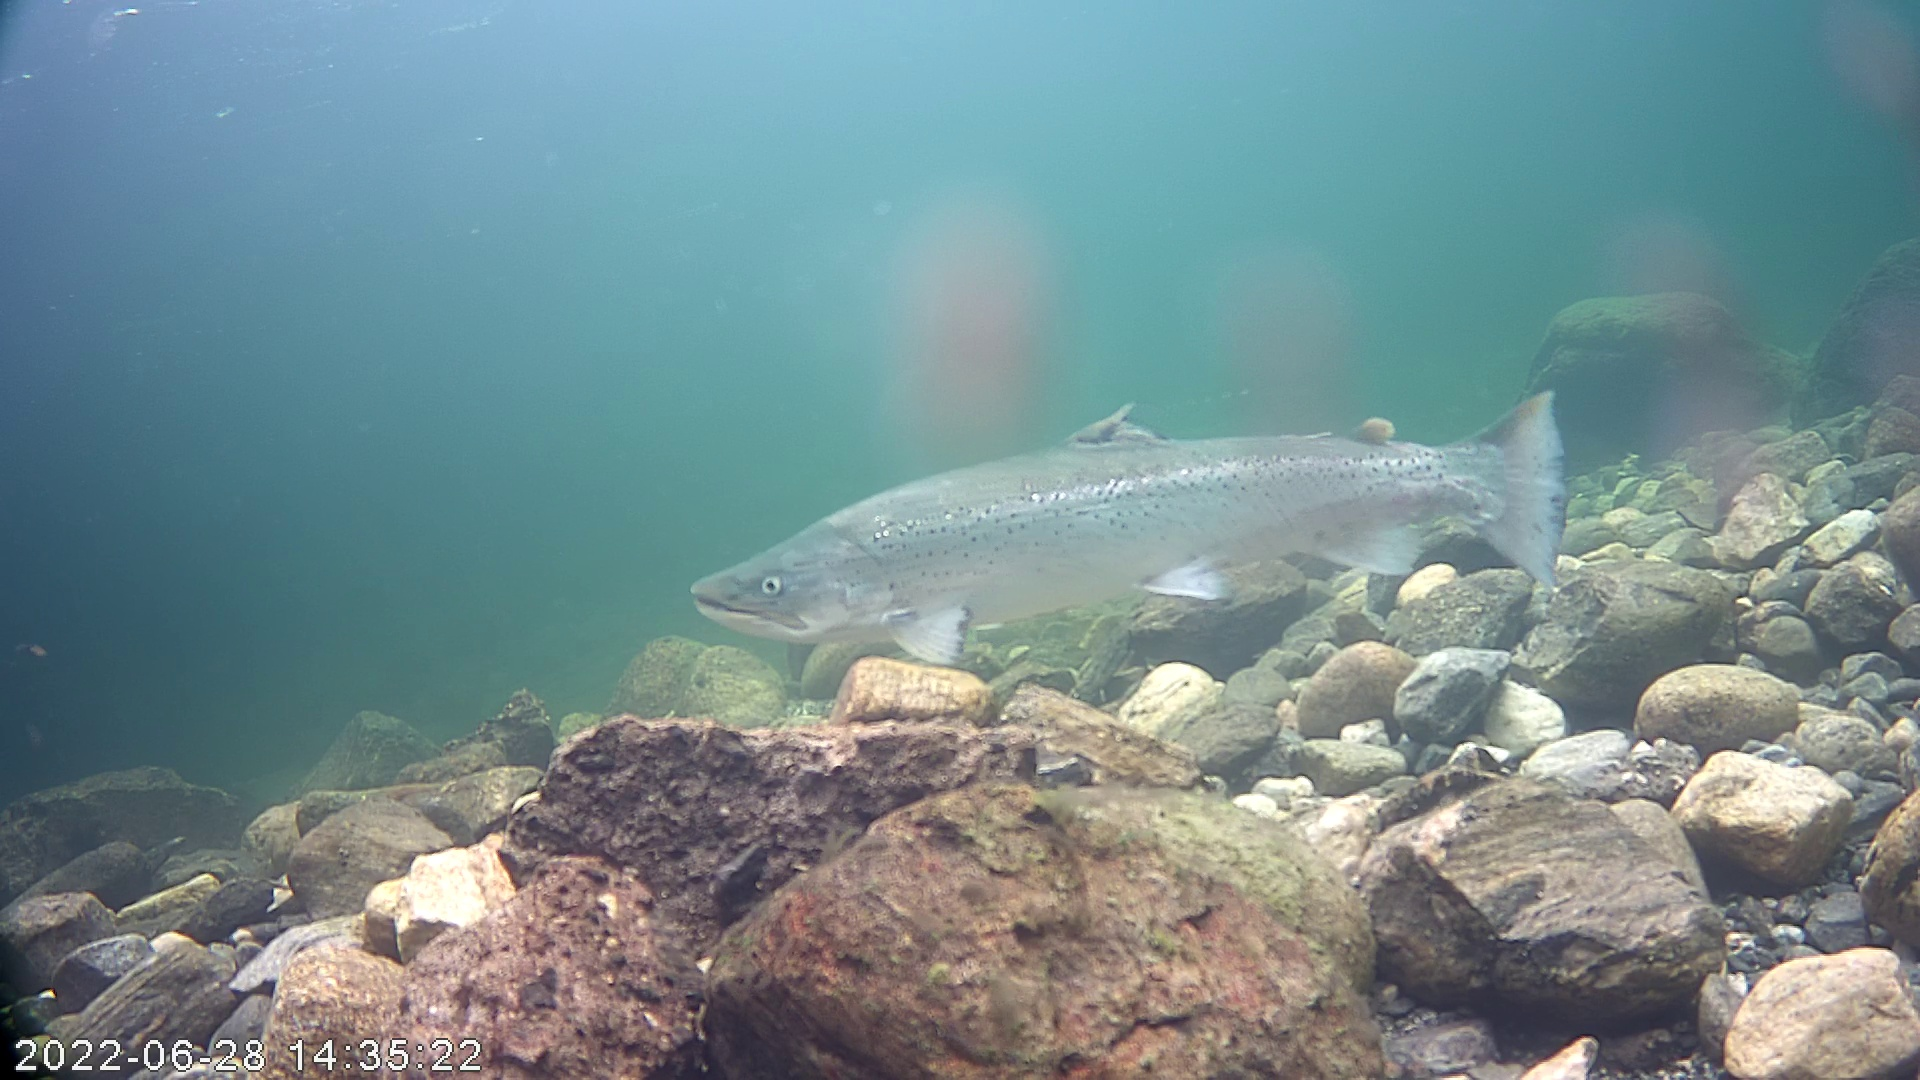salmon: (663, 293, 1610, 692)
